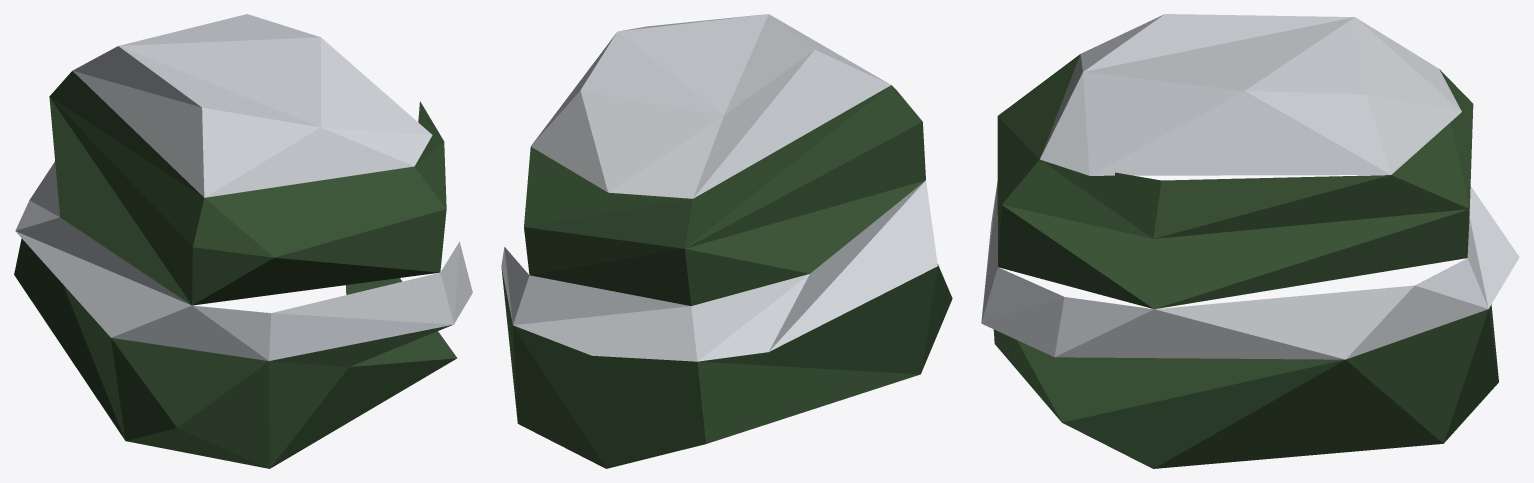
The model's file is deco_winter_1.glb.
The picture shows the model from 3 angles, left to right: view 1: azimuth 30°, elevation 25°; view 2: azimuth 150°, elevation 25°; view 3: azimuth 270°, elevation 25°; orthographic projection. The views are drawn at different scales.
Parts seen in each view (by area): view 1: lod0; view 2: lod0; view 3: lod0.
Boxes of the visible parts, x1,y1,x2,y2 form: lod0: [14, 14, 472, 468]; lod0: [501, 14, 952, 468]; lod0: [981, 14, 1519, 468].
Size of the model in its own units: 1.14 by 1 by 1.4.
